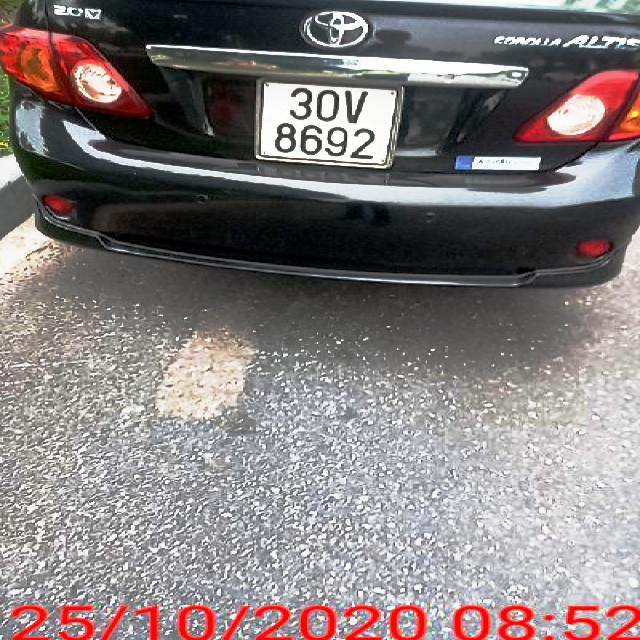license_plate: (264, 79, 406, 170)
